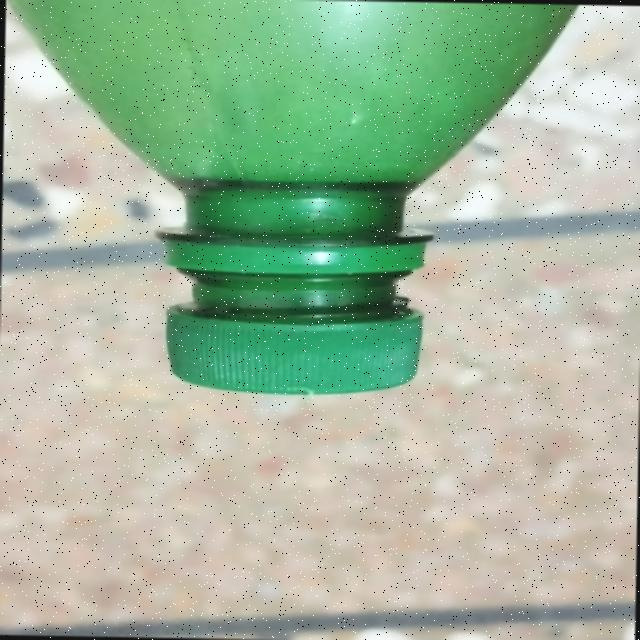cap: (154, 233, 432, 398)
